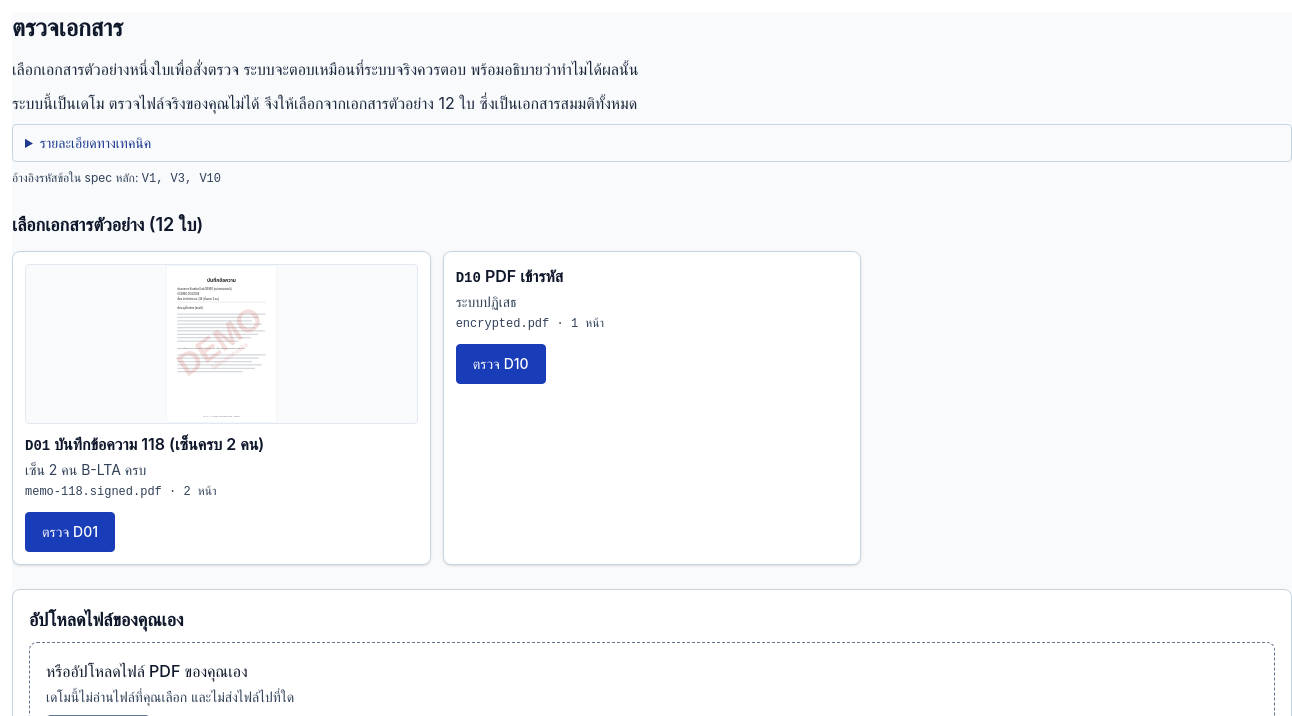
/verify problem messages › 422 NOT_SIGNED is explained in Thai
The image size is (1292, 716).
Click the button "ตรวจ D10" at (501, 364), box [456, 344, 546, 384]
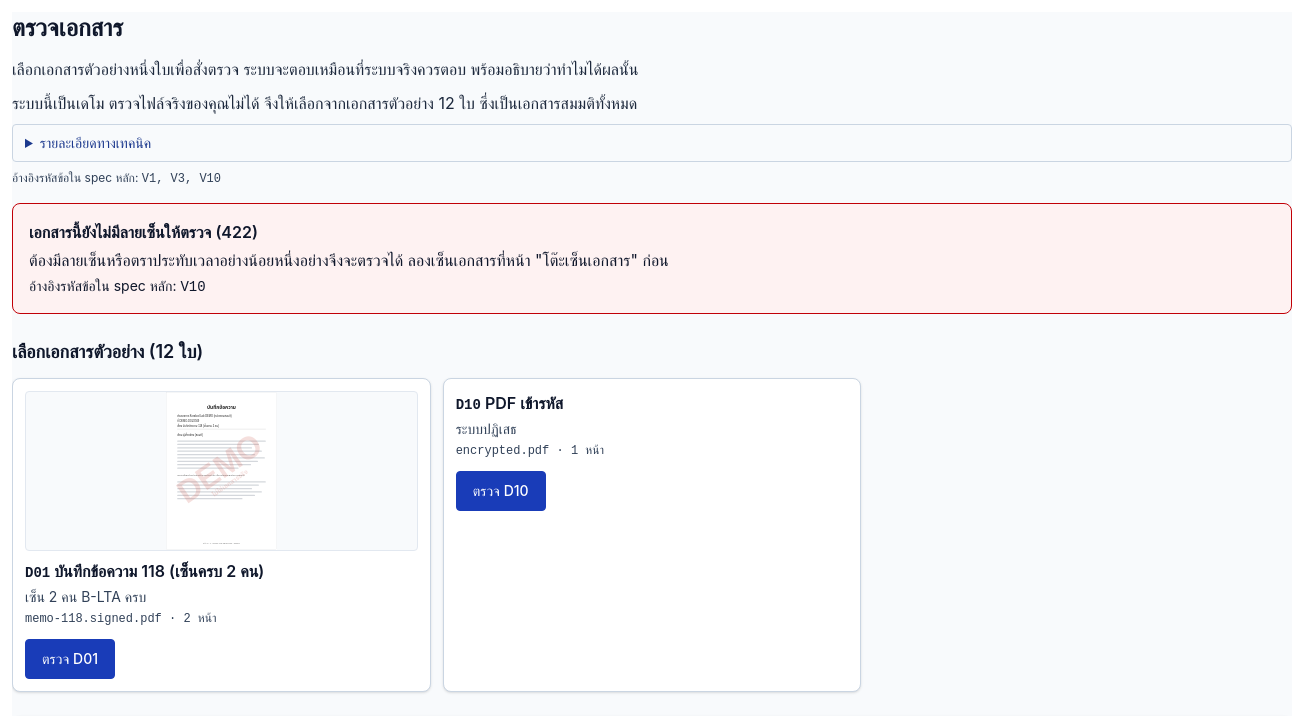
Now the message with test id "verify-error" shows "ยังไม่มีลายเซ็น", box [29, 222, 258, 242]
Now the message with test id "verify-error" shows "V10", box [180, 279, 206, 295]
